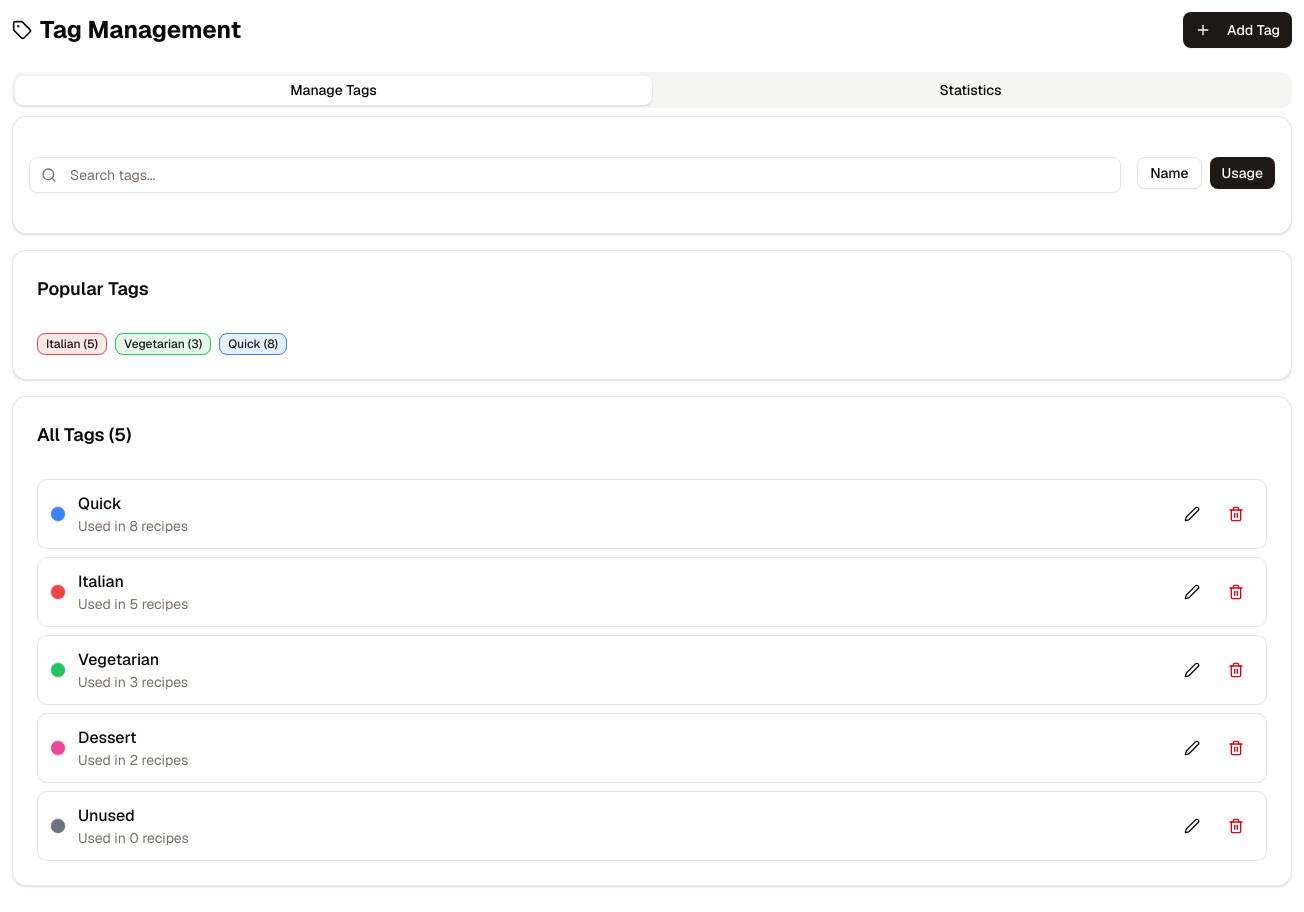
it: TagManagement › search functionality › should show no results message when search yields no results
Type "nonexistent" into the field with placeholder "Search tags...". click: (575, 175)
box: x1=29 y1=157 x2=1121 y2=193
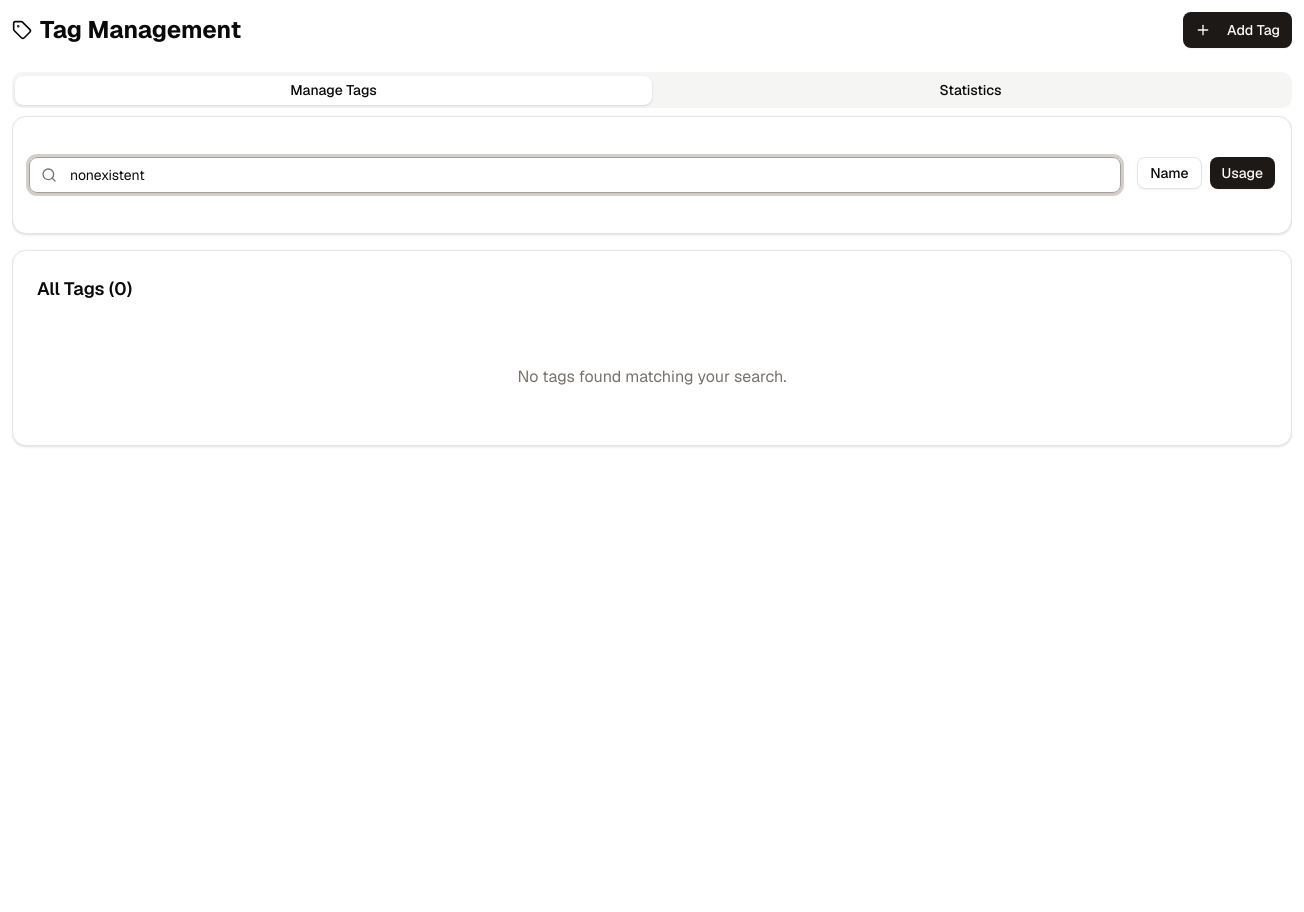
Expected: the text "No tags found matching your search." is shown, x1=518 y1=366 x2=786 y2=387
